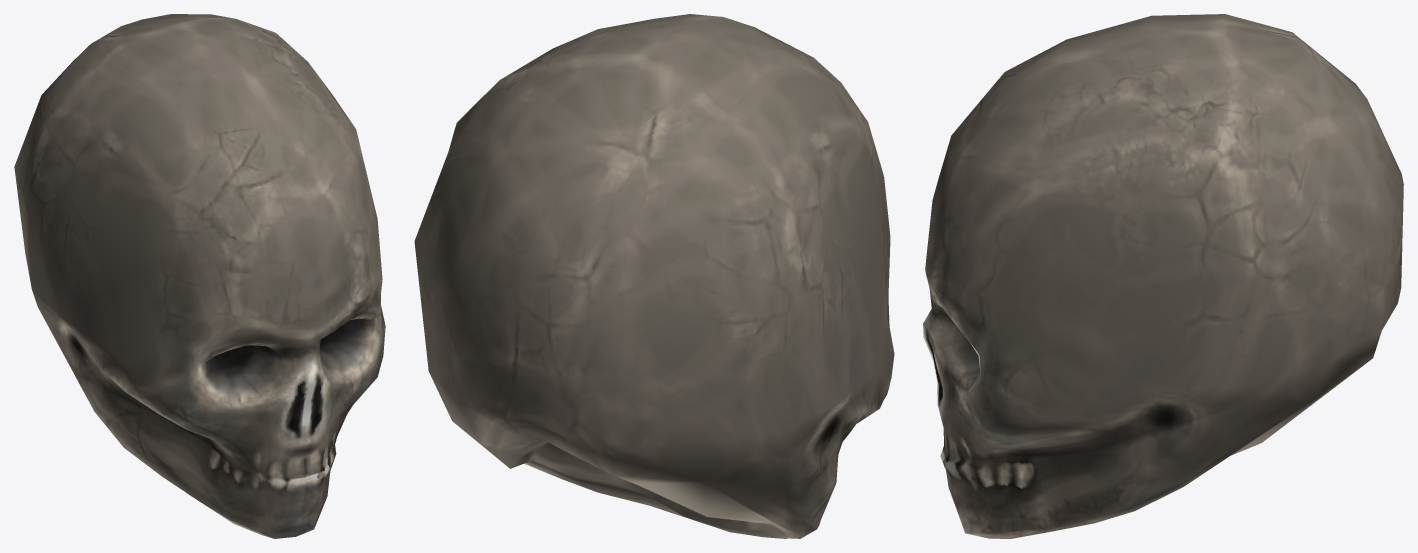
File: skull.fbx
3 renders of one model, left to right at view 1: azimuth 30°, elevation 25°; view 2: azimuth 150°, elevation 25°; view 3: azimuth 270°, elevation 25°, orthographic. The views are drawn at different scales.
Parts seen in each view (by area): view 1: RetopoGroup1; view 2: RetopoGroup1; view 3: RetopoGroup1.
Part boxes in pixels (left/top/right/bottom): RetopoGroup1: left=14, top=14, right=385, bottom=538; RetopoGroup1: left=414, top=14, right=894, bottom=538; RetopoGroup1: left=923, top=14, right=1403, bottom=538.
Bounding box in the file's own units: 81.21 × 115 × 101.
